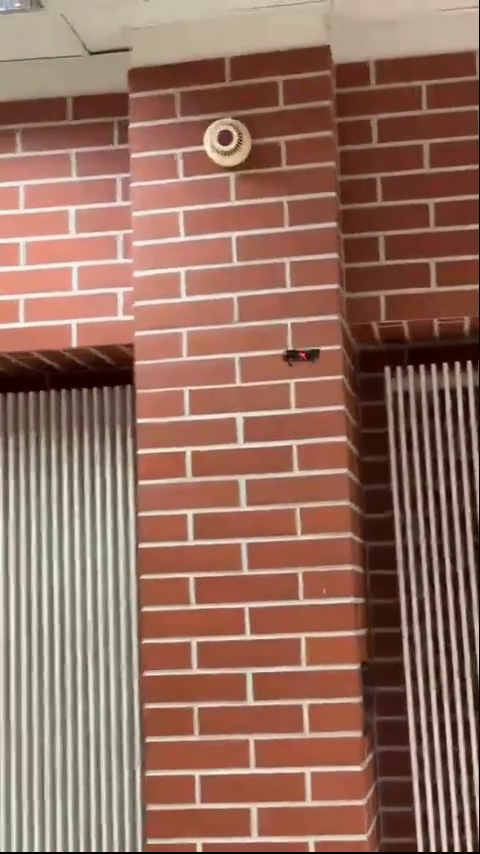drone: (278, 347, 322, 366)
